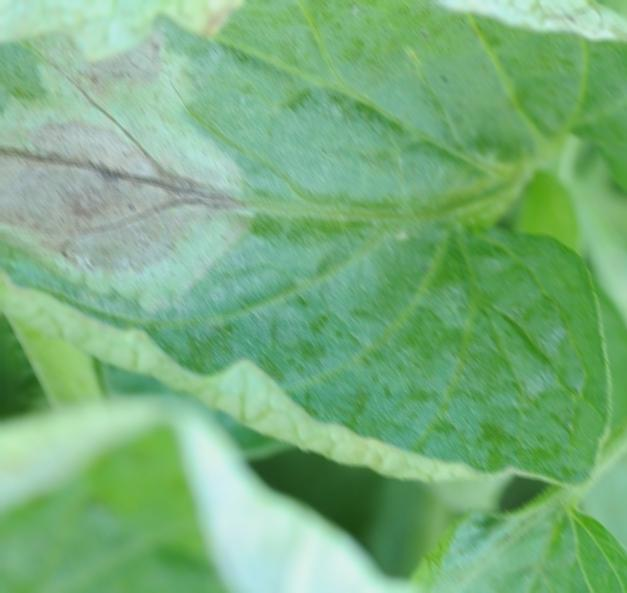Tomato leaf late blight: (0, 0, 627, 465)
